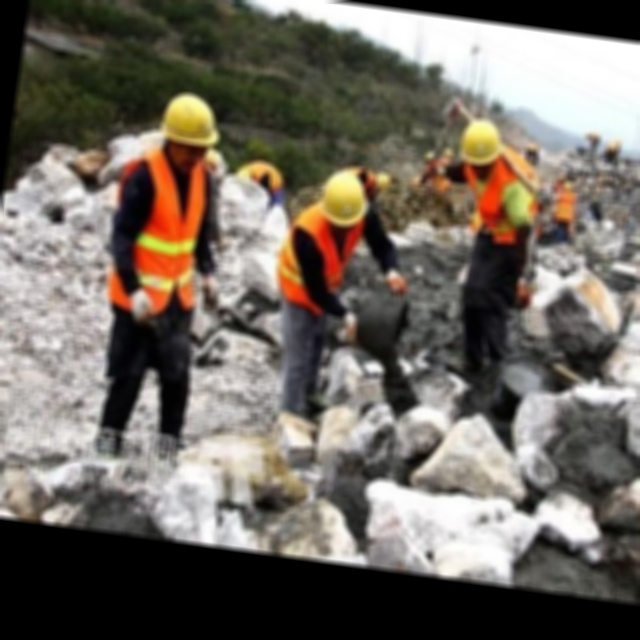Con_Casco: (159, 91, 223, 159), (318, 170, 371, 230)
Con_Chaleco: (105, 148, 214, 318)
